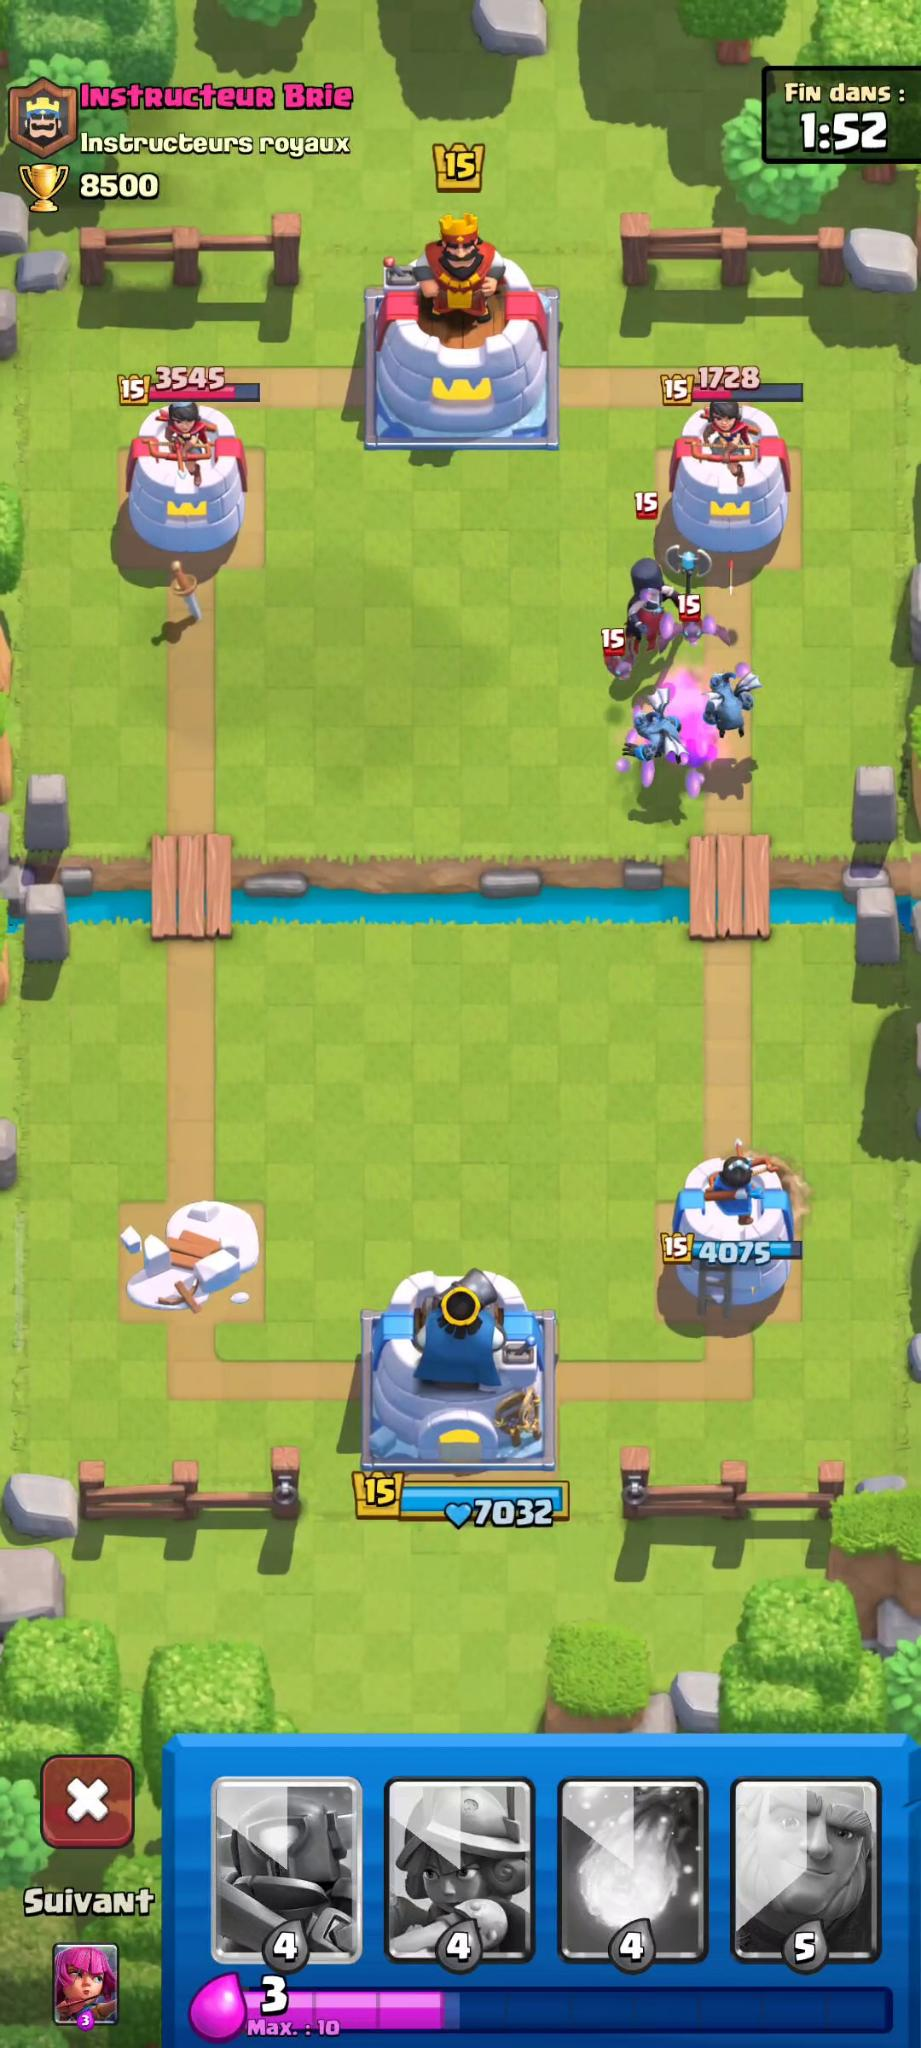bat: (661, 596, 747, 653), (593, 618, 644, 684)
gargouille: (615, 688, 695, 777), (700, 664, 773, 739)
